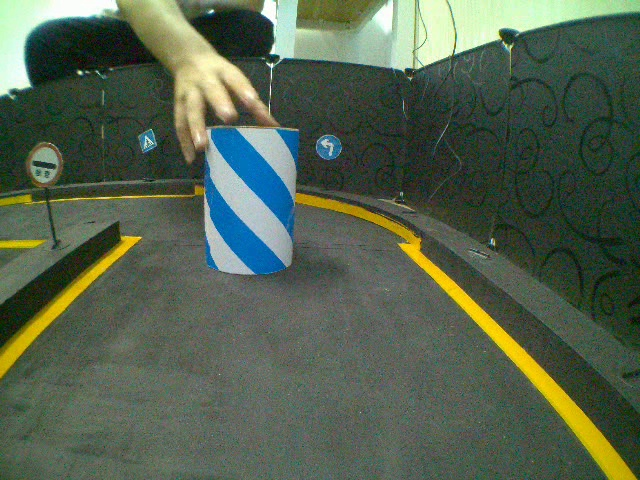bucket: (204, 126, 296, 278)
